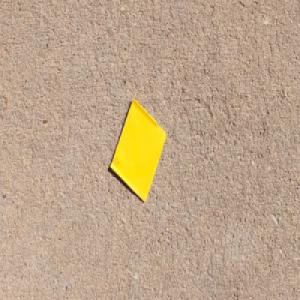PlasticPart: (109, 96, 166, 203)
